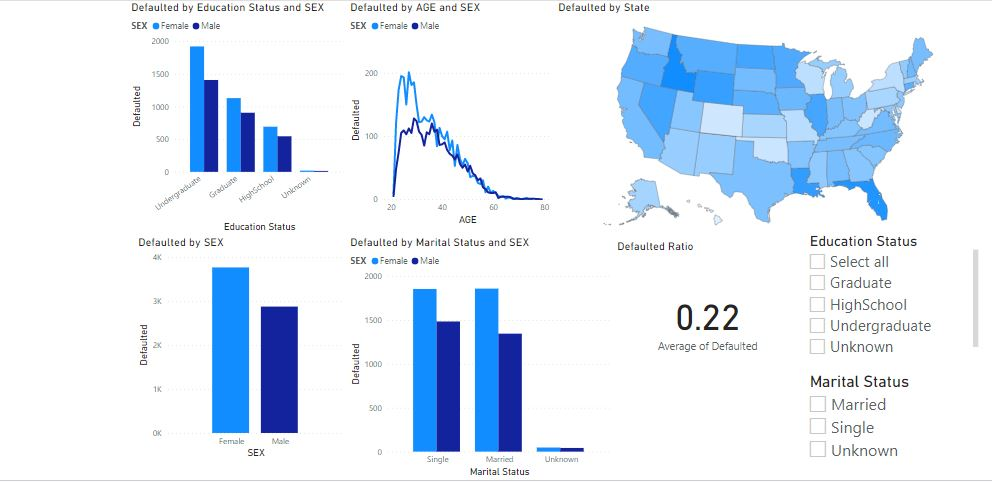

The page's visual inventory and layout, read from the dashboard file:
{"tool":"powerbi","page":{"name":"Page 1","canvas":[1280,720],"ordinal":0},"visuals":[{"type":"clusteredColumnChart","fields":{"Y":["Sum(Data.Defaulted)"],"Category":["Data.Education Status"],"Series":["Data.SEX"]},"box":[0,0,328.7,352.7],"z":0},{"type":"lineChart","fields":{"Category":["Data.AGE"],"Series":["Data.SEX"],"Y":["Sum(Data.Defaulted)"]},"box":[328.7,0,311.3,341.8],"z":1000},{"type":"clusteredColumnChart","fields":{"Y":["Sum(Data.Defaulted)"],"Category":["Data.SEX"]},"box":[10.9,352.7,317.8,339.6],"z":2000},{"type":"shapeMap","fields":{"Category":["Data.State"],"Value":["Sum(Data.Defaulted)"]},"box":[640,0,640,359.2],"z":3000},{"type":"clusteredColumnChart","fields":{"Y":["Sum(Data.Defaulted)"],"Category":["Data.Marital Status"],"Series":["Data.SEX"]},"box":[328.7,352.7,400.5,367.9],"z":4000},{"type":"card","title":"Defaulted Ratio","fields":{"Values":["Avg(Data.Defaulted)"]},"box":[729.3,359.2,280.8,224.2],"z":5000},{"type":"slicer","fields":{"Values":["Data.Education Status"]},"box":[1009.1,342.8,270.9,194.2],"z":6000},{"type":"slicer","fields":{"Values":["Data.Marital Status"]},"box":[1009.1,553.7,270.9,165.4],"z":7000}]}

Visuals, with their boxes in screenshot pixels (x1, y1, x2, y2):
clusteredColumnChart - Sum(Data.Defaulted) x Data.Education Status: (left=0, top=8, right=207, bottom=241)
lineChart - Data.AGE x Data.SEX: (left=207, top=8, right=413, bottom=234)
clusteredColumnChart - Sum(Data.Defaulted) x Data.SEX: (left=0, top=241, right=207, bottom=466)
shapeMap - Data.State x Sum(Data.Defaulted): (left=413, top=8, right=837, bottom=245)
clusteredColumnChart - Sum(Data.Defaulted) x Data.Marital Status: (left=207, top=241, right=472, bottom=481)
"Defaulted Ratio" card: (left=472, top=245, right=658, bottom=394)
slicer - Data.Education Status: (left=657, top=235, right=837, bottom=363)
slicer - Data.Marital Status: (left=657, top=374, right=837, bottom=481)
